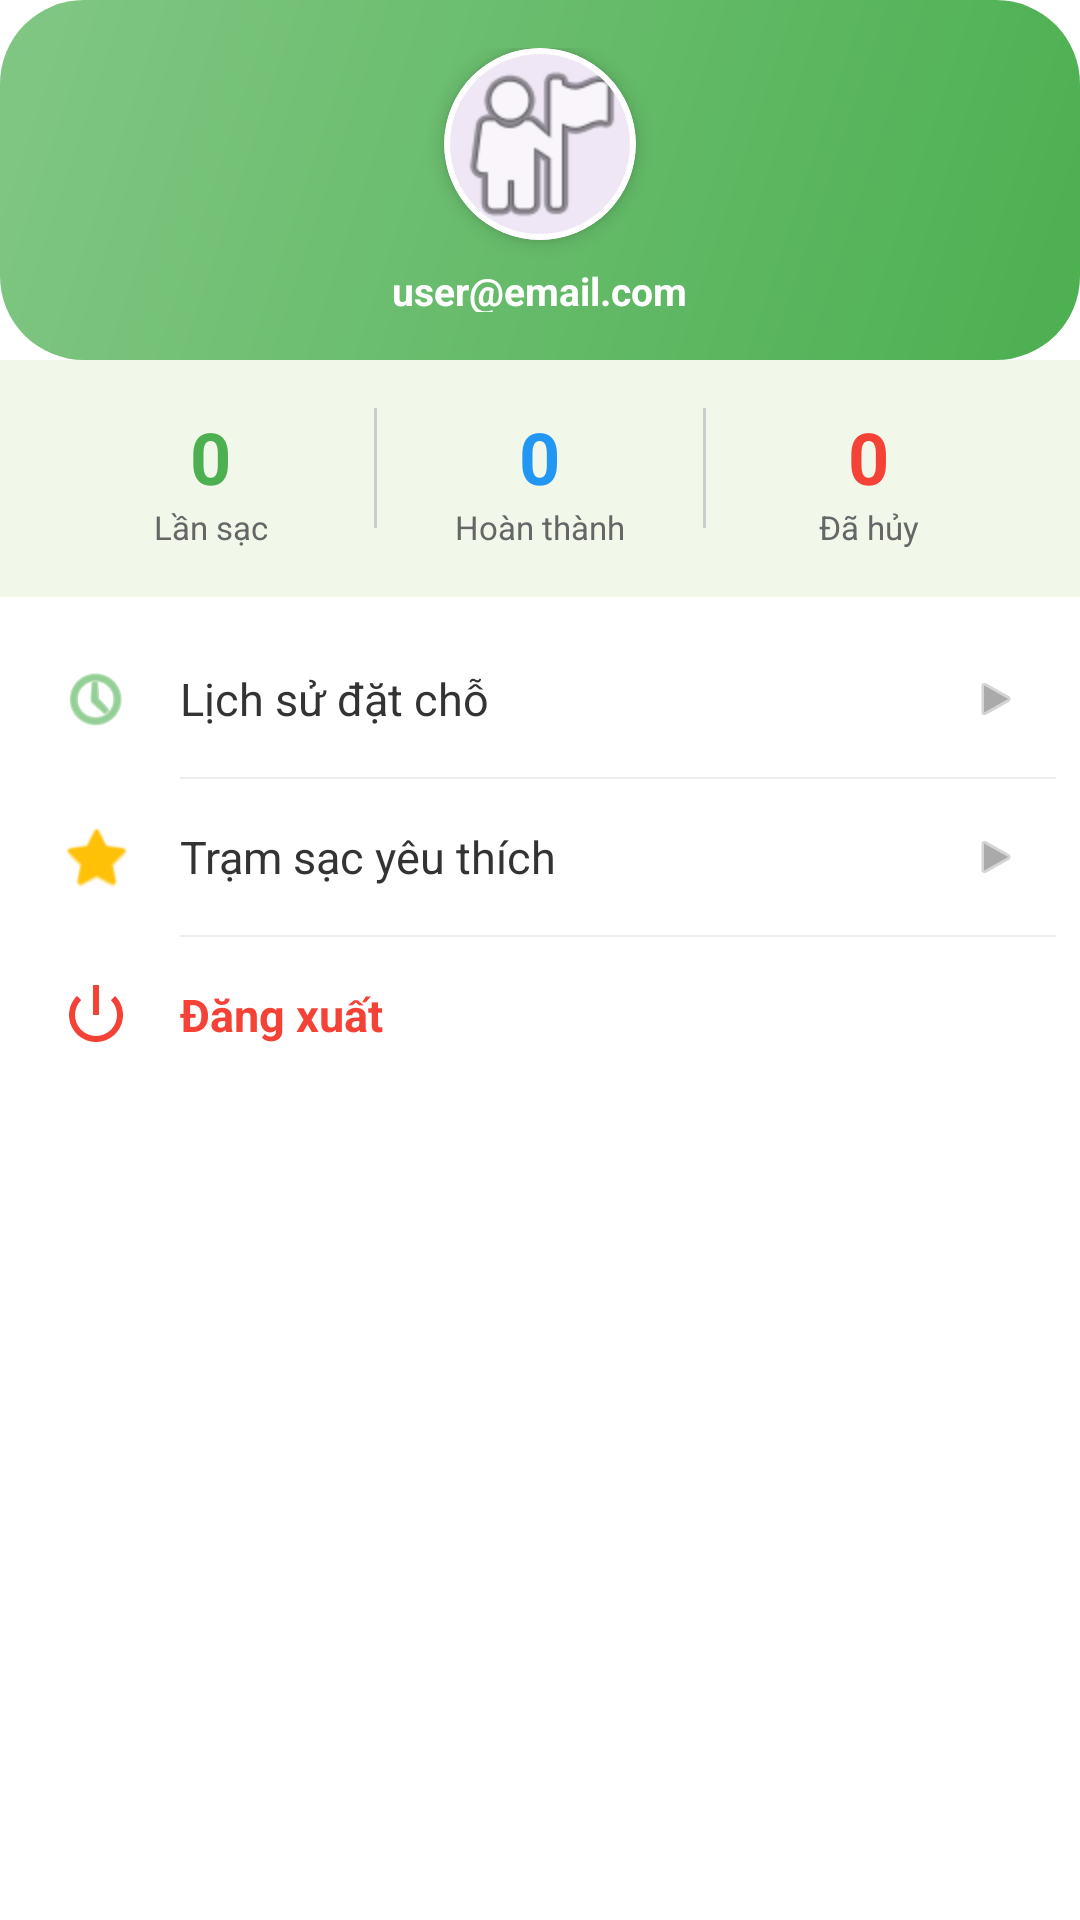

Screen size 1080w x 1920h. Icon name, then its center in pixels as point (x, y):
lock power off: point (96, 1013)
play: point (996, 699), point (996, 857)
recent history: point (96, 699)
star on: point (96, 857)
